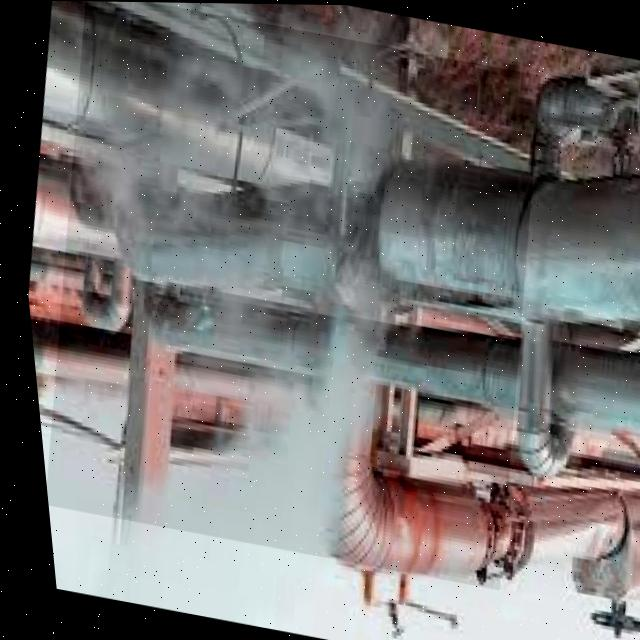corrosion: (276, 122, 512, 397)
